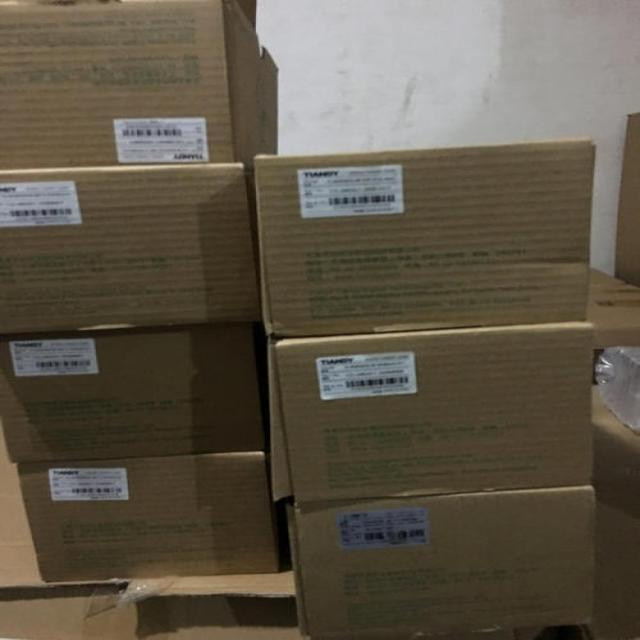Carton: (0, 166, 260, 462), (274, 327, 589, 505), (291, 489, 591, 639), (14, 455, 275, 586)
